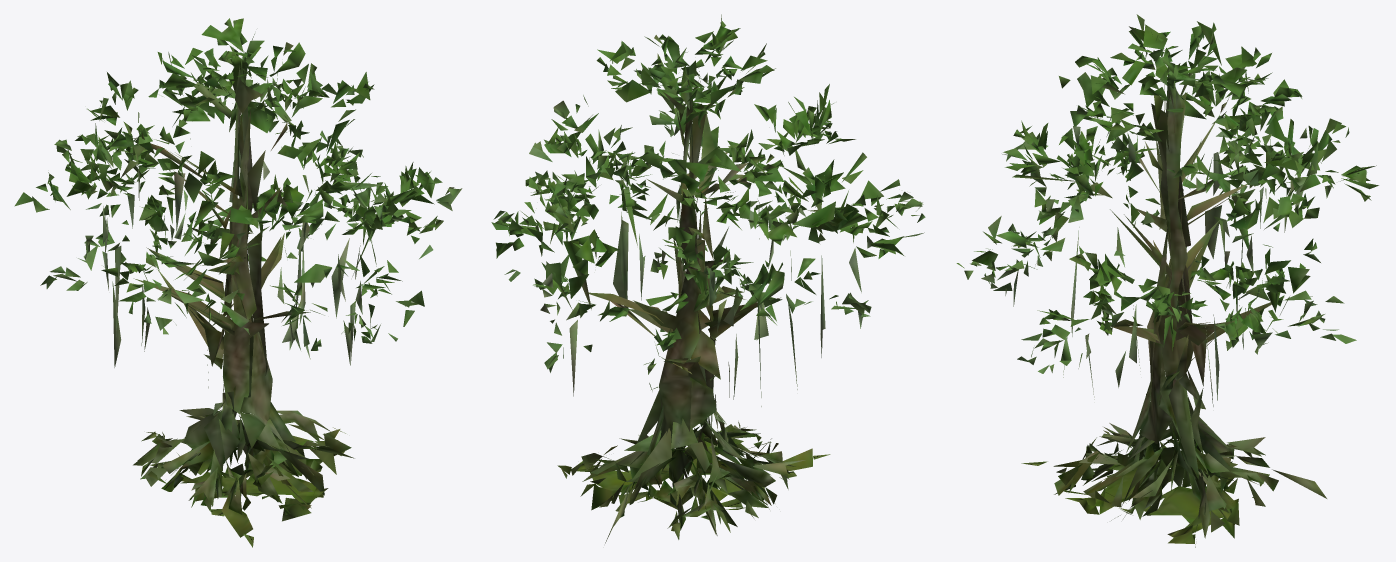
The model's file is cipreste_raizes_adulta-lod.glb.
3 renders of one model, left to right at view 1: azimuth 30°, elevation 25°; view 2: azimuth 150°, elevation 25°; view 3: azimuth 270°, elevation 25°, orthographic. The views are drawn at different scales.
Visible parts, largest first — view 1: geometry_0; view 2: geometry_0; view 3: geometry_0.
Part boxes in pixels (x1,y1,x2,y2): geometry_0: [14, 18, 462, 547]; geometry_0: [491, 14, 925, 543]; geometry_0: [956, 14, 1378, 547].
Size of the model in its own units: 0.8744 by 1.02 by 0.8296.
Materials: 1 (1 with a texture image).
